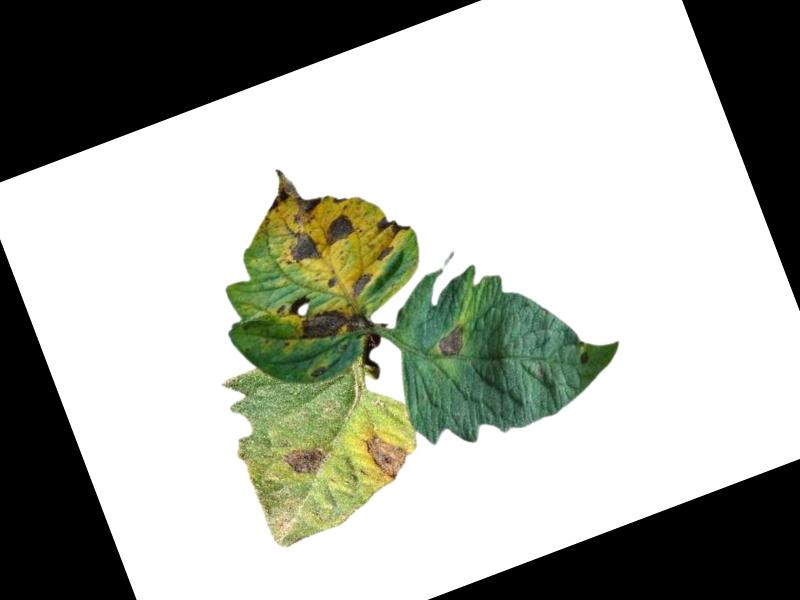Early_blight: (253, 157, 329, 234), (292, 294, 373, 355), (361, 424, 415, 486), (278, 437, 333, 484), (275, 226, 324, 272), (434, 323, 475, 363), (318, 210, 360, 248), (373, 209, 414, 244), (345, 270, 376, 300), (374, 244, 398, 265), (575, 348, 595, 368), (324, 276, 340, 292)
